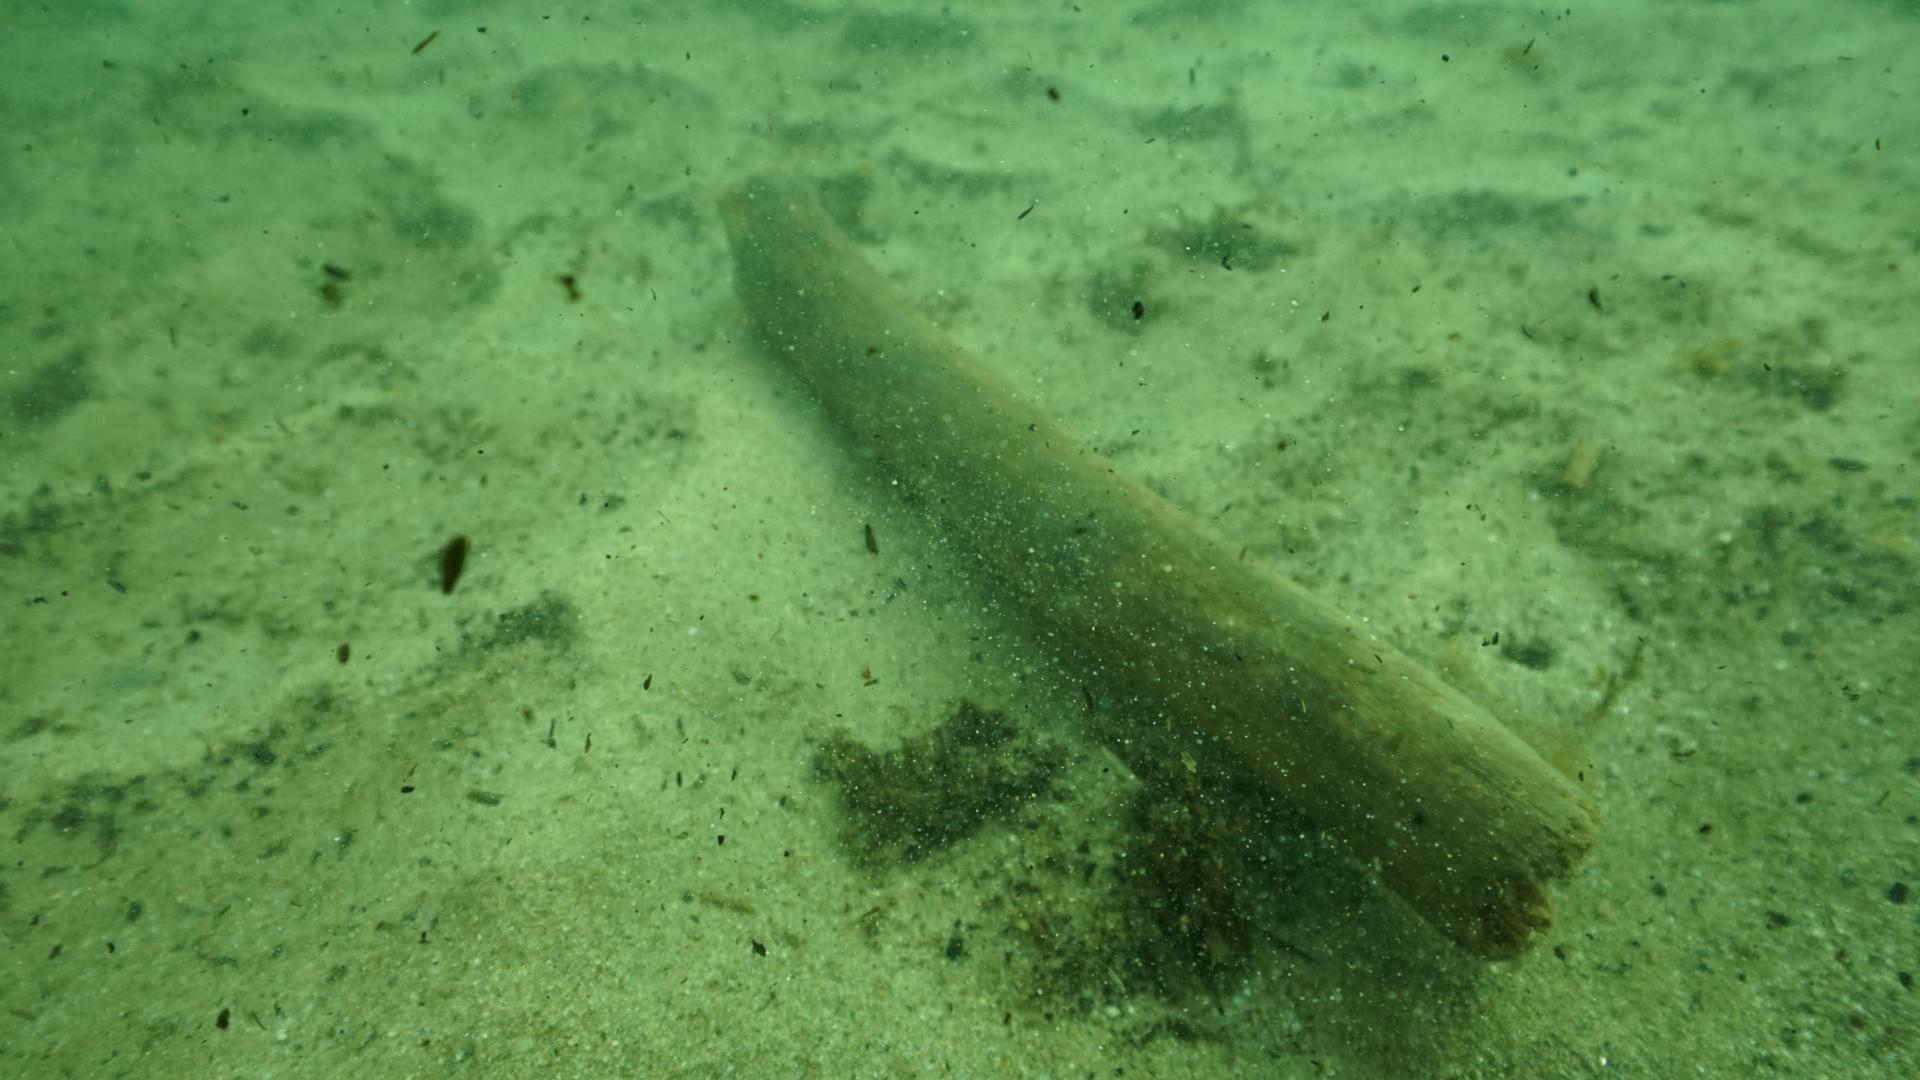wood: (713, 175, 1598, 947)
